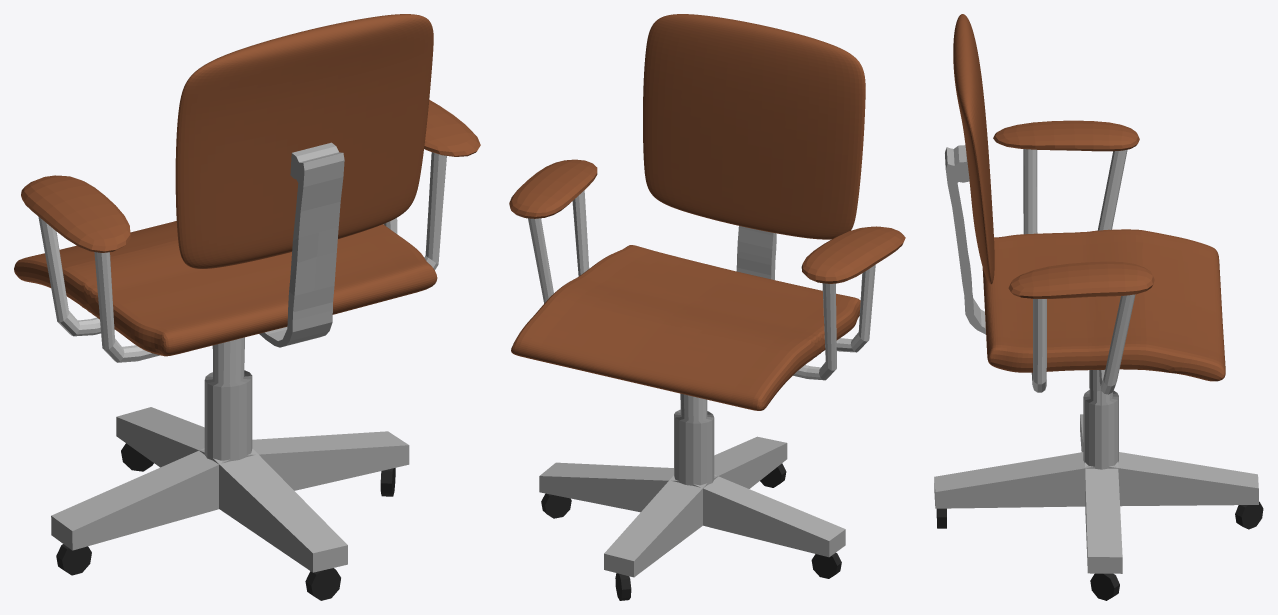
File: gaming_chair.glb
3 views of the same model, side by side, from view 1: azimuth 30°, elevation 25°; view 2: azimuth 150°, elevation 25°; view 3: azimuth 270°, elevation 25° (orthographic). The views are drawn at different scales.
Parts seen in each view (by area): view 1: chair.002; view 2: chair.002; view 3: chair.002.
Boxes of the visible parts, x1=… form: chair.002: x1=14, y1=14, x2=480, y2=600; chair.002: x1=509, y1=14, x2=905, y2=600; chair.002: x1=934, y1=14, x2=1263, y2=600.
Size of the model in its own units: 2.12 by 2.76 by 1.71.
